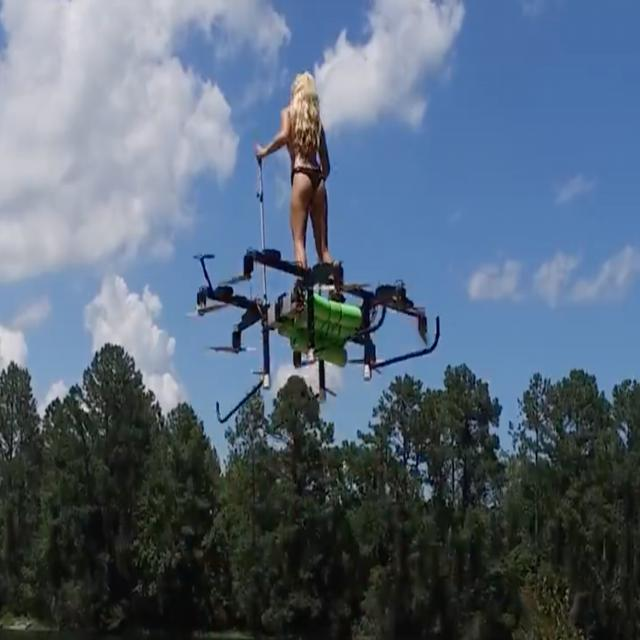drones: (189, 242, 444, 422)
